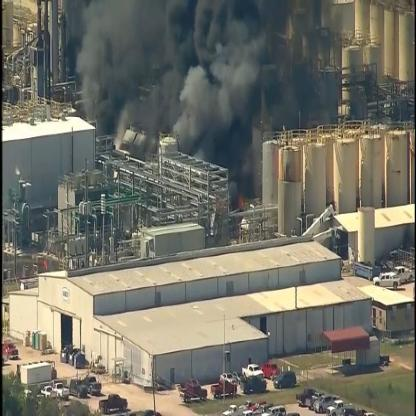fire: (236, 191, 249, 209)
